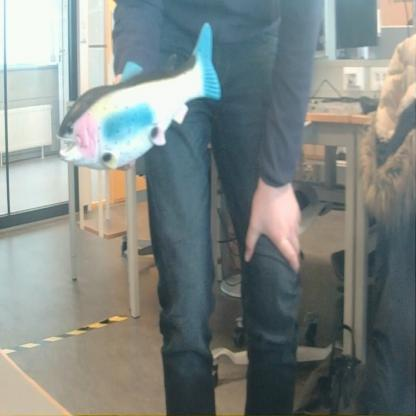rubberfish: (44, 18, 226, 176)
